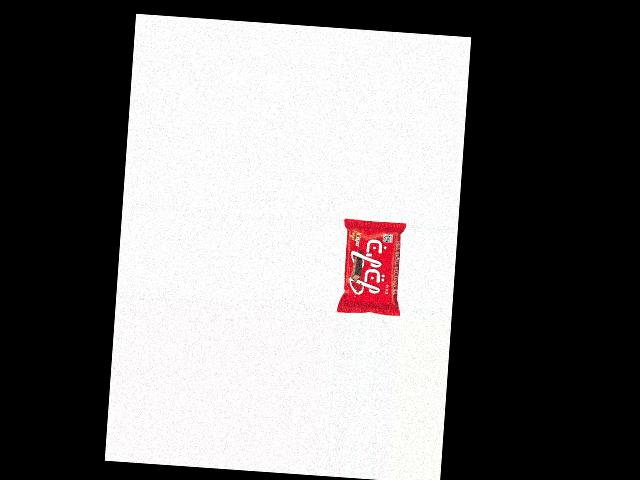chocolate: (337, 219, 407, 316)
